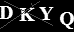D: (1, 4, 13, 20)
K: (17, 7, 35, 22)
Q: (58, 11, 74, 30)
Y: (37, 6, 55, 21)
